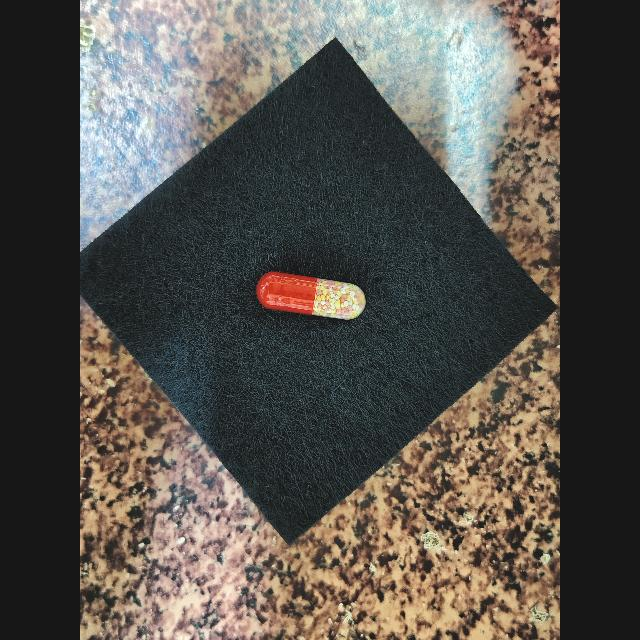Intact Capsule: (256, 272, 366, 320)
